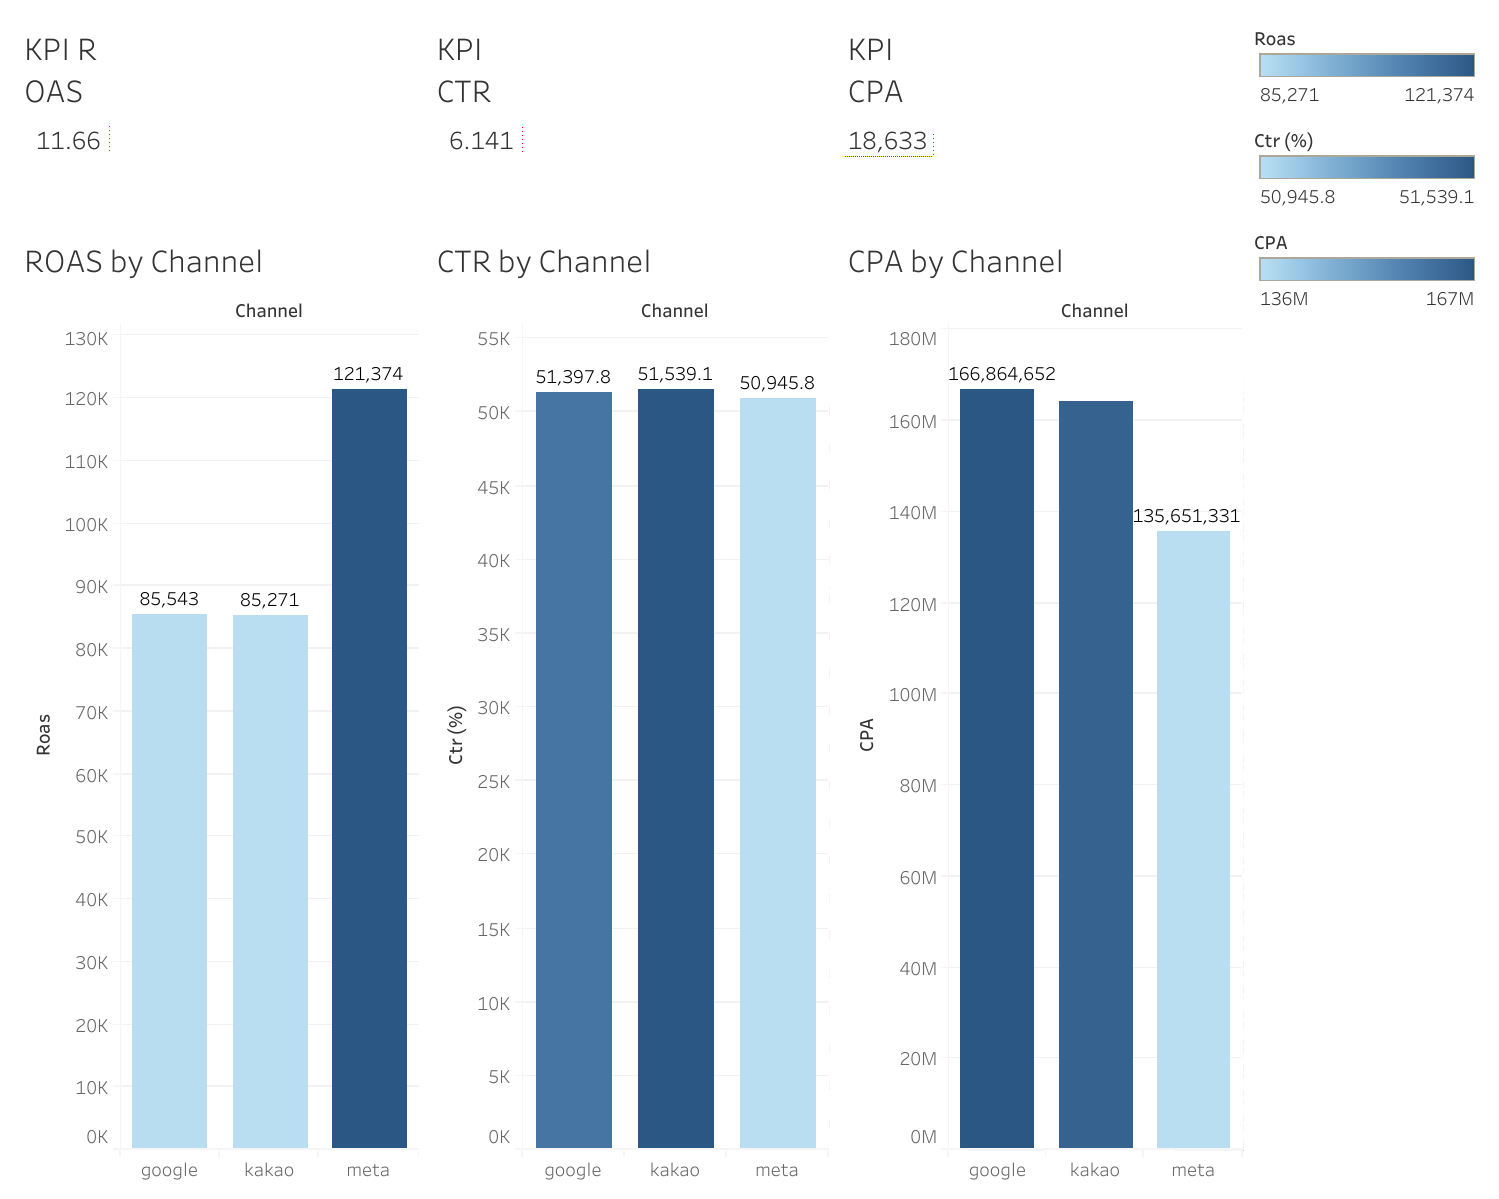

This screenshot's page, from the dashboard's own definition file:
{"tool":"tableau","page":{"name":"Ad Performance Dashboard","canvas":[1000,800],"ordinal":0},"visuals":[{"type":"worksheet","title":"KPI ROAS","mark":"Text","box":[8,8,274.7,141]},{"type":"worksheet","title":"KPI CTR","mark":"Automatic","box":[282.7,8,274.7,141]},{"type":"worksheet","title":"KPI CPA","mark":"Text","box":[557.3,8,274.7,141]},{"type":"legend","title":"ROAS by Channel","param":"[federated.1k6naba0xchqdb0zovgj80bzt0ir].[sum:ROAS:qk]","box":[832,8,160,68]},{"type":"legend","title":"CTR by Channel","param":"[federated.1k6naba0xchqdb0zovgj80bzt0ir].[sum:CTR (%):qk]","box":[832,76,160,68]},{"type":"legend","title":"CPA by Channel","param":"[federated.1k6naba0xchqdb0zovgj80bzt0ir].[sum:CPA:qk]","box":[832,144,160,68]},{"type":"worksheet","title":"ROAS by Channel","mark":"Automatic","rows":["ROAS"],"cols":["Channel"],"box":[8,149,274.7,643]},{"type":"worksheet","title":"CTR by Channel","mark":"Automatic","rows":["CTR (%)"],"cols":["Channel"],"box":[282.7,149,274.7,643]},{"type":"worksheet","title":"CPA by Channel","mark":"Automatic","rows":["CPA"],"cols":["Channel"],"box":[557.3,149,274.7,643]}]}

Visuals, with their boxes in screenshot pixels (x1, y1, x2, y2), scaled from the page's 1000x800 canvas onto the 1499x1199 screenshot:
"KPI ROAS" worksheet (Text marks): [left=12, top=12, right=424, bottom=223]
"KPI CTR" worksheet: [left=424, top=12, right=836, bottom=223]
"KPI CPA" worksheet (Text marks): [left=835, top=12, right=1247, bottom=223]
"ROAS by Channel" legend: [left=1247, top=12, right=1487, bottom=114]
"CTR by Channel" legend: [left=1247, top=114, right=1487, bottom=216]
"CPA by Channel" legend: [left=1247, top=216, right=1487, bottom=318]
"ROAS by Channel" worksheet: [left=12, top=223, right=424, bottom=1187]
"CTR by Channel" worksheet: [left=424, top=223, right=836, bottom=1187]
"CPA by Channel" worksheet: [left=835, top=223, right=1247, bottom=1187]
